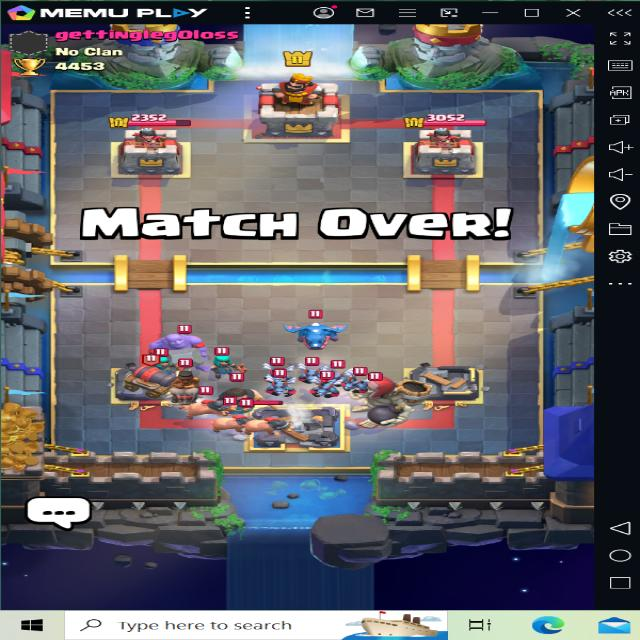bowler: (128, 302, 210, 361)
cannon-cart: (125, 351, 180, 395)
electro-dragon: (285, 311, 358, 360)
giant-skeleton: (342, 360, 437, 425)
minion: (259, 374, 297, 399), (344, 370, 375, 398), (320, 375, 346, 403), (264, 356, 294, 379), (299, 356, 321, 384), (324, 370, 352, 385)
ram-rider: (169, 354, 212, 406)
rascal-boy: (200, 377, 268, 419)
rascal-girl: (206, 346, 242, 372), (151, 350, 176, 369)
royal-hogs: (197, 412, 260, 432), (248, 411, 291, 436), (184, 405, 226, 427)
